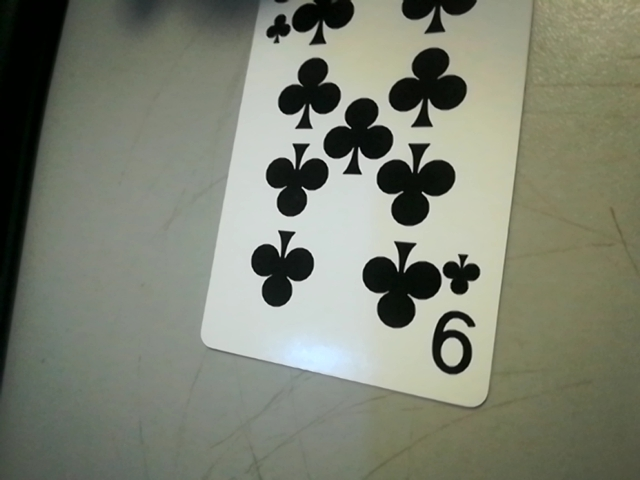mh 9: (428, 252, 491, 382)
